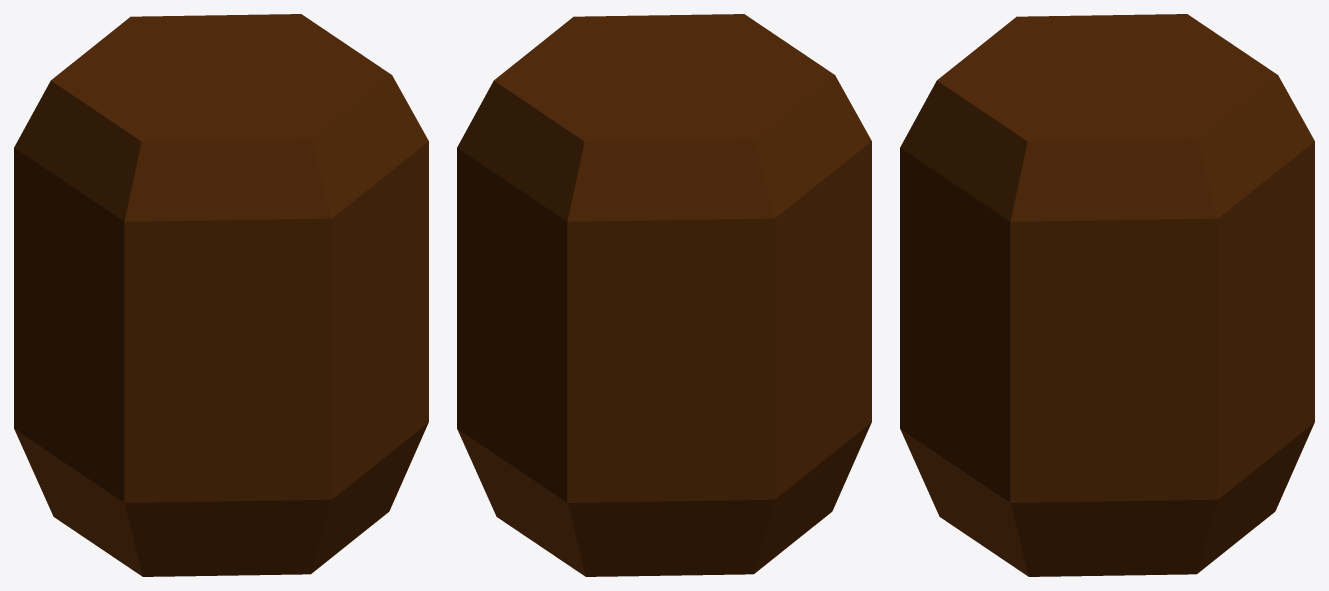
Rendered from Barrelv1.fbx.
3 views of the same model, side by side, from view 1: azimuth 30°, elevation 25°; view 2: azimuth 150°, elevation 25°; view 3: azimuth 270°, elevation 25° (orthographic).
Visible parts, largest first — view 1: Cylinder.155; view 2: Cylinder.155; view 3: Cylinder.155.
Boxes of the visible parts, x1,y1,x2,y2 form: Cylinder.155: (14, 14, 428, 576); Cylinder.155: (457, 14, 871, 576); Cylinder.155: (900, 14, 1314, 576).
Bounding box in the file's own units: 11.1 × 14.57 × 12.55.
